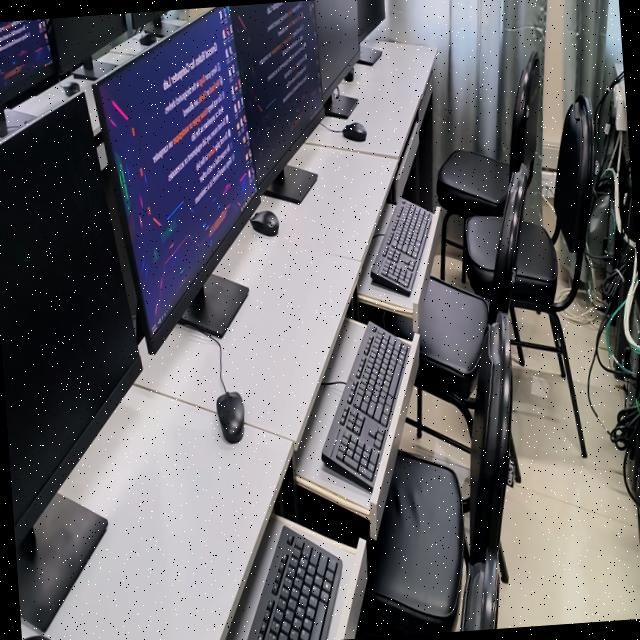Chair: (406, 162, 529, 445), (436, 52, 541, 278), (362, 451, 464, 635), (510, 221, 582, 434), (470, 322, 509, 562), (462, 216, 500, 297), (461, 562, 491, 631)
Keyboard: (322, 323, 409, 491), (254, 530, 342, 640), (371, 200, 432, 296)
Monitor: (0, 93, 142, 548), (95, 6, 263, 337), (229, 0, 323, 192), (0, 18, 53, 109), (51, 13, 126, 74), (314, 0, 359, 100), (357, 0, 385, 41)
Mouse: (216, 391, 244, 443), (250, 210, 278, 236), (343, 122, 366, 141)
